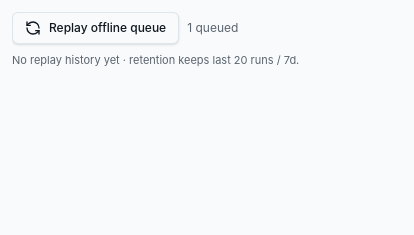
Scenario: Replay offline queue button — retry after failed cloud sales sync › first click fails, second click retries with the same idempotent payload and synces once
The width and height of the screenshot is (414, 235).
# --- First click: should fail and leave the record queued. -------------
Click the button with test id "offline-queue-replay-button" at (96, 28), box [12,12,179,44]
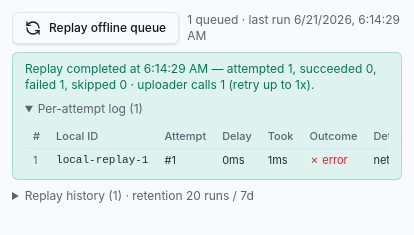
Check: the element with test id "offline-queue-replay-success" is shown, box [12,52,402,180]
Check: the row with test id "offline-queue-attempt-row-0" shows "error", box [310,153,348,167]
# --- Second click: stub now succeeds. ----------------------------------
Click the button with test id "offline-queue-replay-button" at (96, 28), box [12,12,179,44]
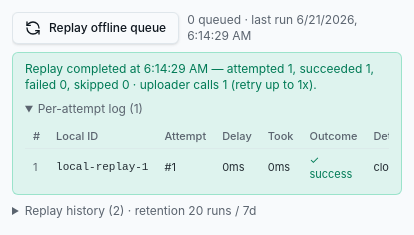
Check: the element with test id "offline-queue-replay-success" shows "succeeded 1", box [12,52,402,195]
